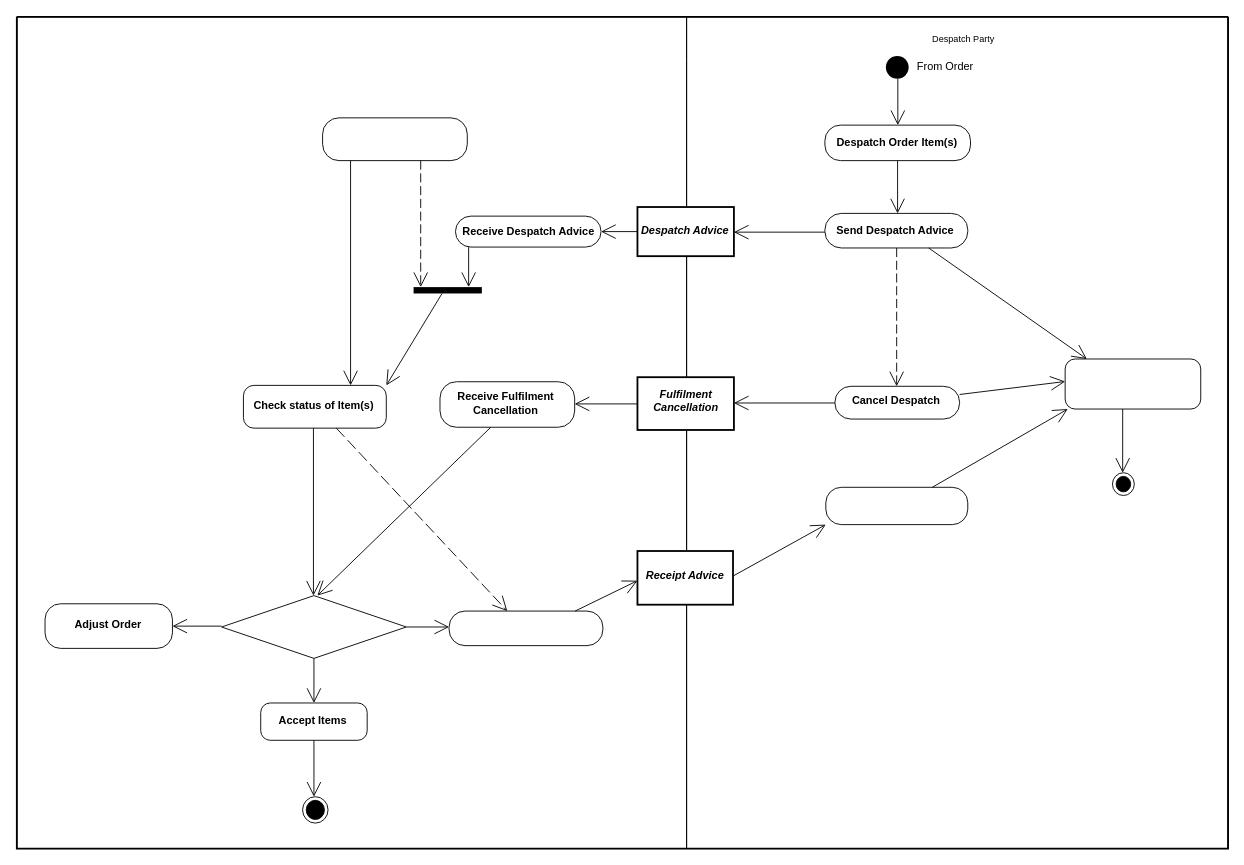
The diagram is 1244 pixels wide and 865 high, and some of its shapes have lost their labels. The box of each missing label's shape, as (x1, y1, x2, y2) in pixels:
Adjust supply status: (1064, 358, 1201, 409)
Delivery Party: (16, 16, 687, 849)
Determine Action: (221, 595, 406, 658)
Receive Order Item(s): (322, 117, 467, 161)
Receive Receipt Advice: (825, 486, 968, 525)
Send Receipt Advice: (448, 610, 603, 646)
